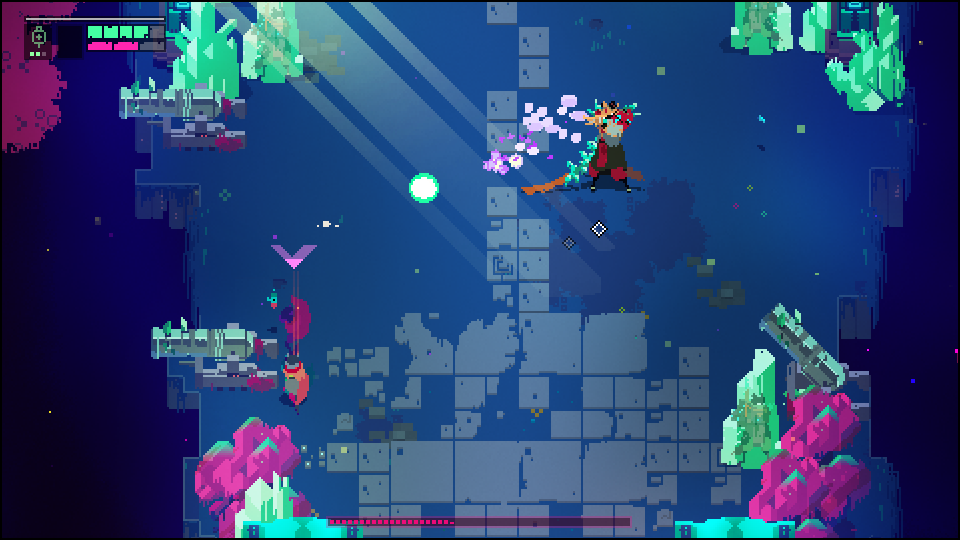hanged_man: (557, 97, 648, 197)
hanged_shot: (405, 170, 438, 205)
player: (275, 351, 315, 407)
